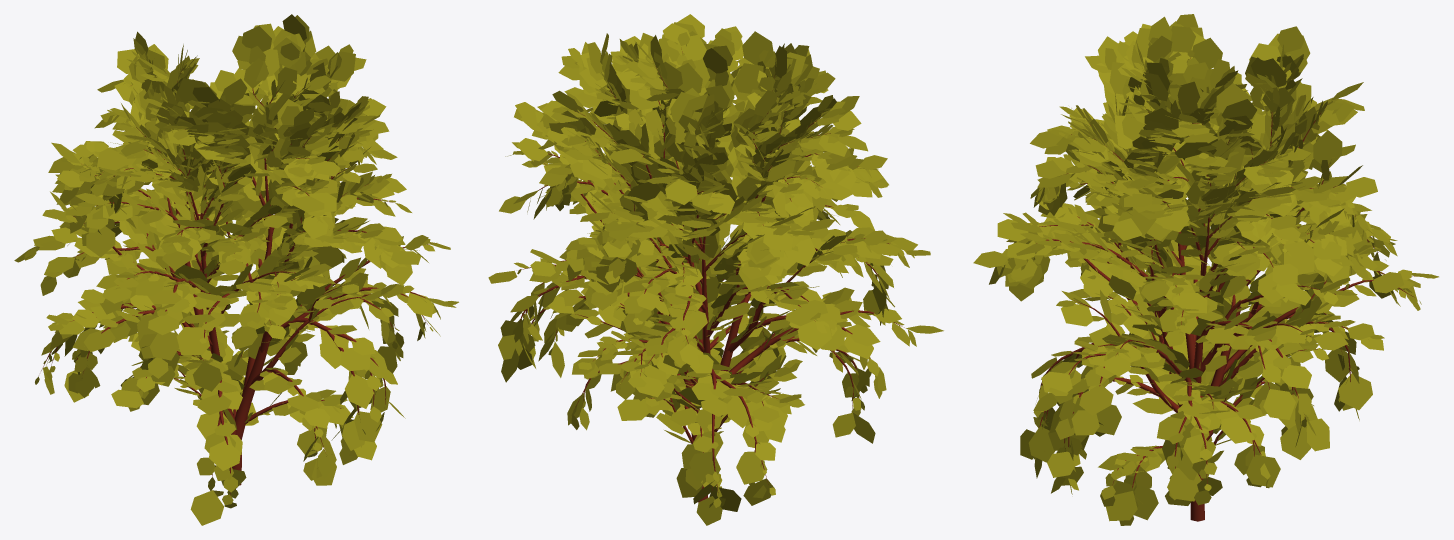
The model's file is tree22.fbx.
3 renders of one model, left to right at view 1: azimuth 30°, elevation 25°; view 2: azimuth 150°, elevation 25°; view 3: azimuth 270°, elevation 25°, orthographic. The views are drawn at different scales.
Parts seen in each view (by area): view 1: leaves; view 2: leaves; view 3: leaves.
Boxes of the visible parts, x1=… form: leaves: x1=14, y1=14, x2=458, y2=525; leaves: x1=488, y1=14, x2=943, y2=525; leaves: x1=973, y1=14, x2=1438, y2=525.
Size of the model in its own units: 554 by 640 by 568.
